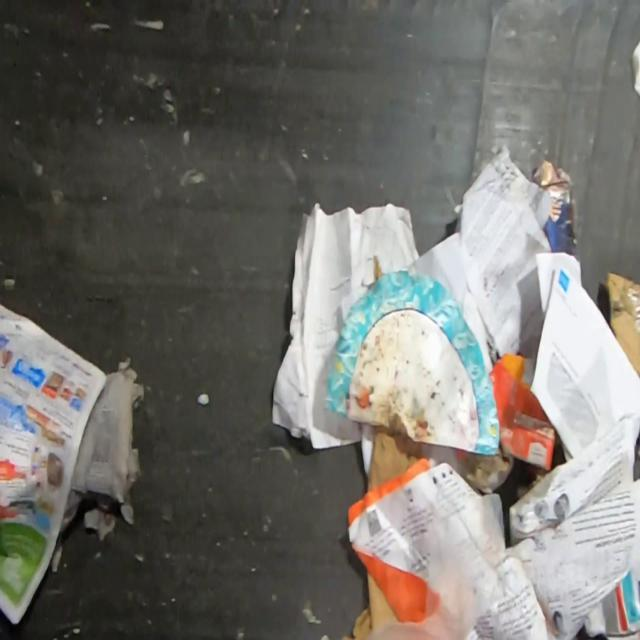cardboard: (322, 268, 501, 457), (489, 353, 557, 471), (531, 158, 578, 260), (340, 569, 399, 639), (604, 270, 640, 378), (366, 427, 423, 493)
soft_plastic: (366, 484, 507, 640)
